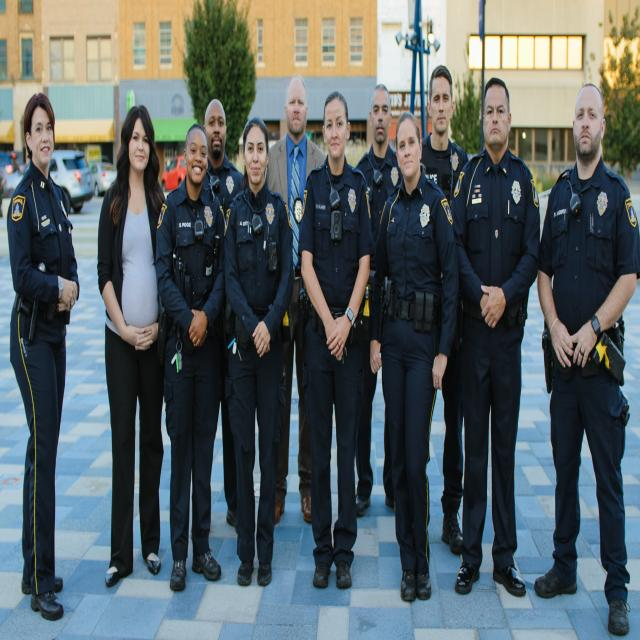police: (532, 67, 640, 627), (447, 73, 542, 606), (372, 110, 452, 620), (292, 89, 373, 586), (6, 64, 76, 626), (225, 119, 293, 579), (157, 118, 226, 555)
